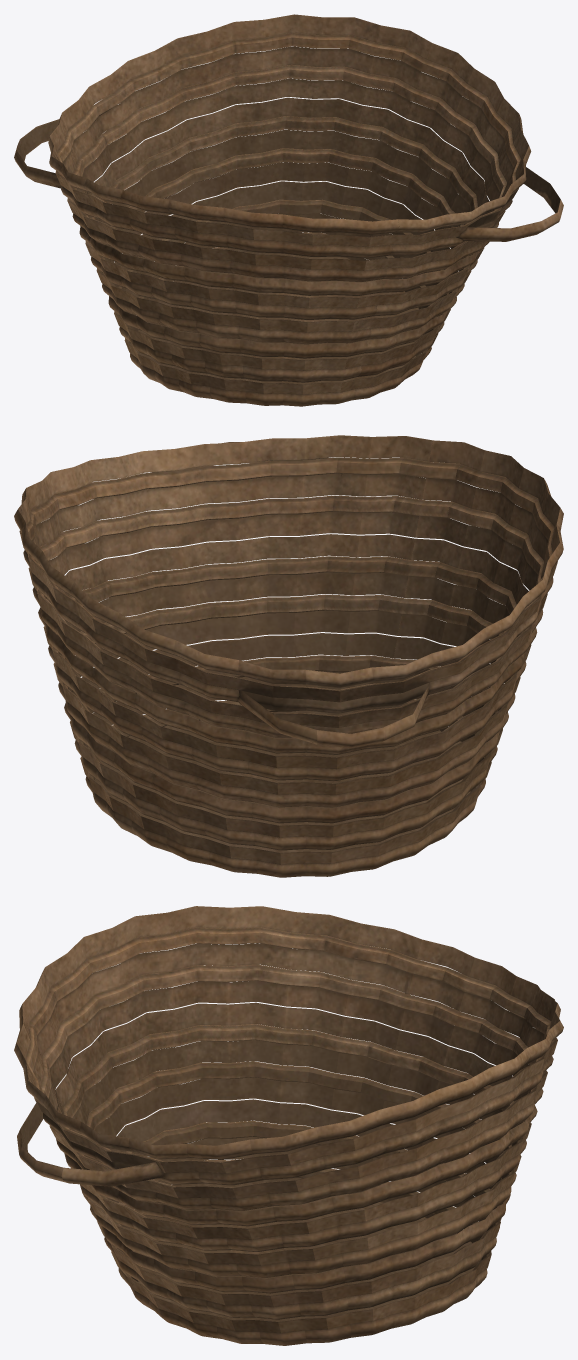
Rendered from wicker_basket.glb.
The picture shows the model from 3 angles, top to bottom: view 1: azimuth 30°, elevation 25°; view 2: azimuth 150°, elevation 25°; view 3: azimuth 270°, elevation 25°; orthographic projection. The views are drawn at different scales.
Parts seen in each view (by area): view 1: basket_0; view 2: basket_0; view 3: basket_0.
Part boxes in pixels (x1,y1,x2,y2): basket_0: (14, 14, 563, 406); basket_0: (14, 435, 563, 877); basket_0: (14, 906, 563, 1345).
Size of the model in its own units: 1.64 by 0.9305 by 1.64.
Materials: 1 (1 with a texture image).
